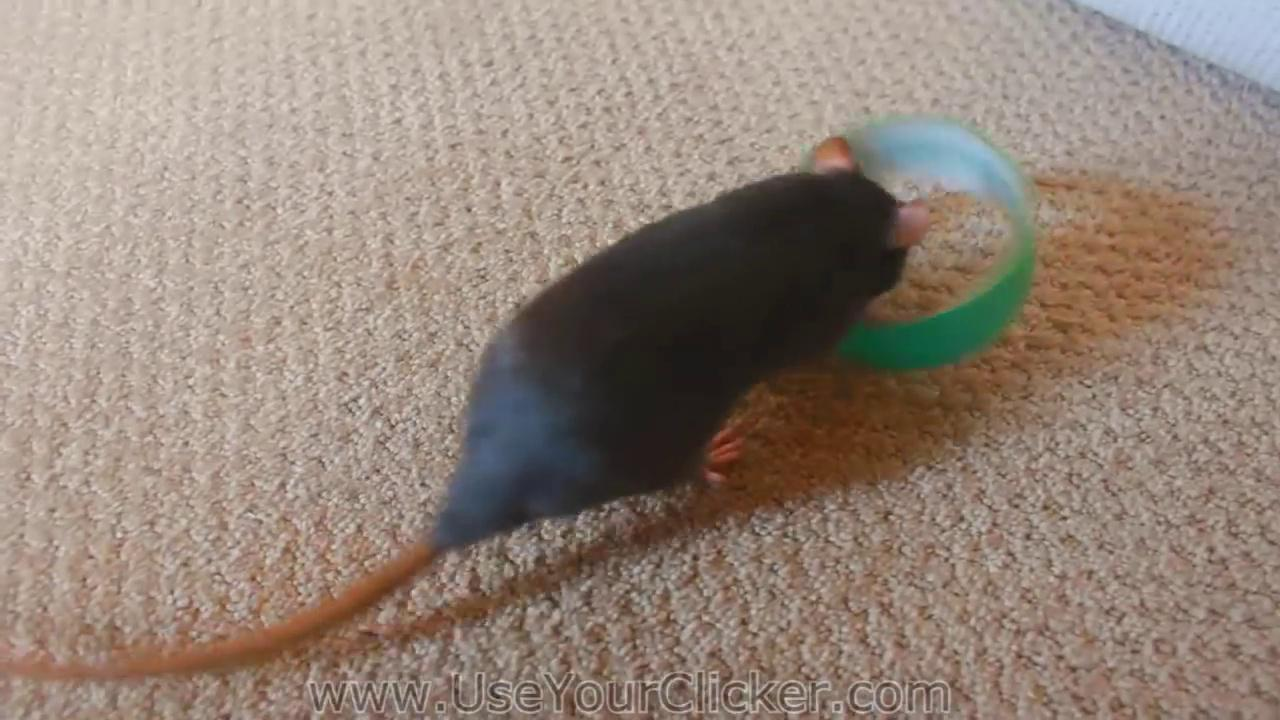rat: (0, 137, 930, 682)
